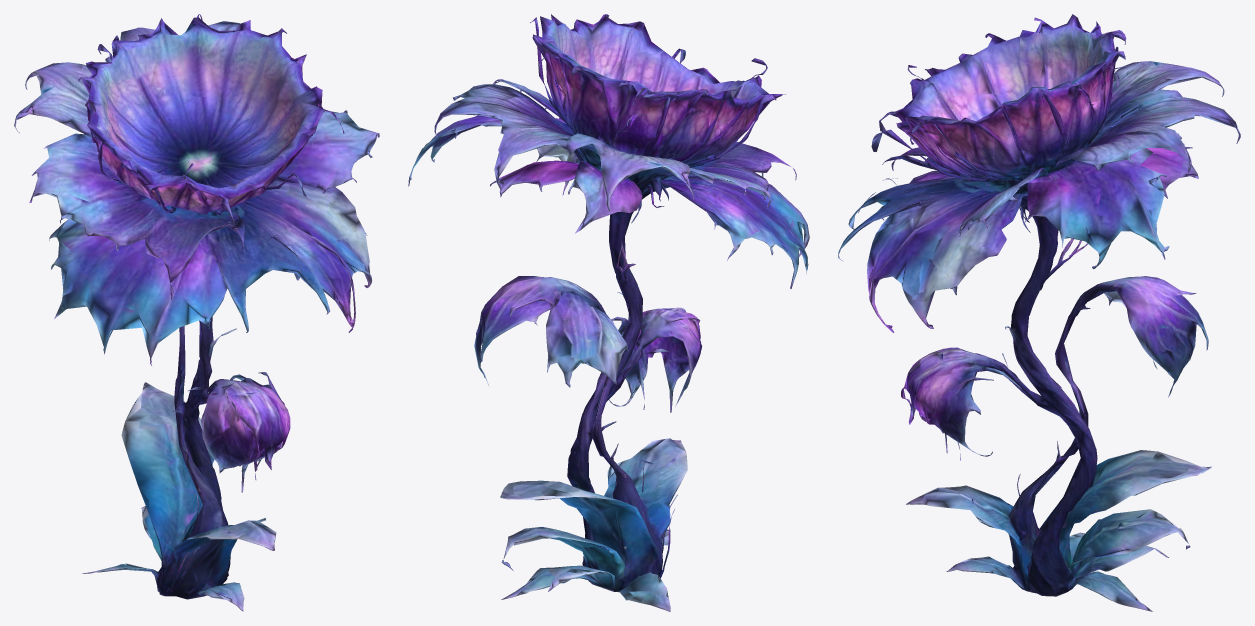
The model's file is nebula-bloom.glb.
The picture shows the model from 3 angles, left to right: view 1: azimuth 30°, elevation 25°; view 2: azimuth 150°, elevation 25°; view 3: azimuth 270°, elevation 25°; orthographic projection.
Size of the model in its own units: 0.4957 by 0.8 by 0.5451.
Materials: 1 (1 with a texture image).
